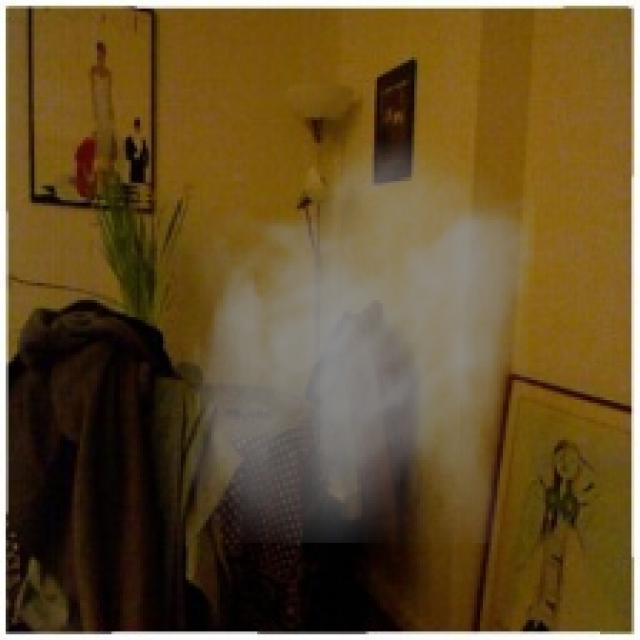Smoke: (188, 126, 534, 543)
